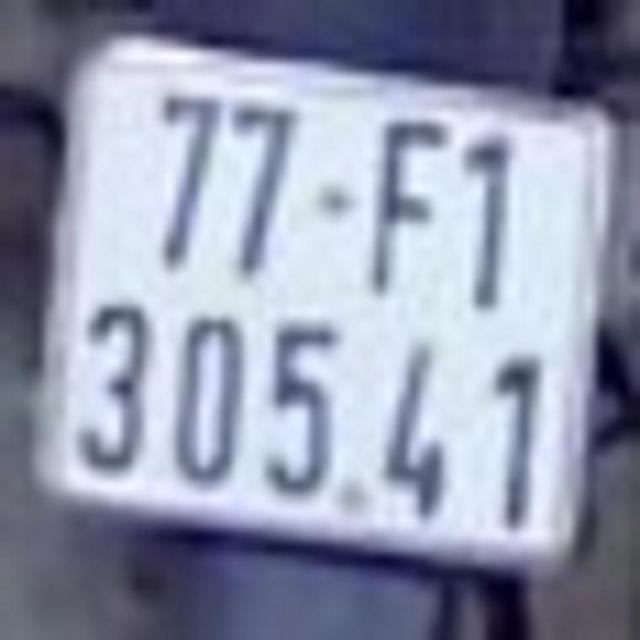0: (174, 306, 240, 482)
1: (488, 350, 540, 532), (461, 122, 507, 305)
3: (82, 296, 150, 477)
4: (376, 329, 448, 522)
5: (268, 320, 336, 497)
7: (154, 90, 221, 266), (228, 100, 296, 270)
F: (368, 110, 452, 296)
